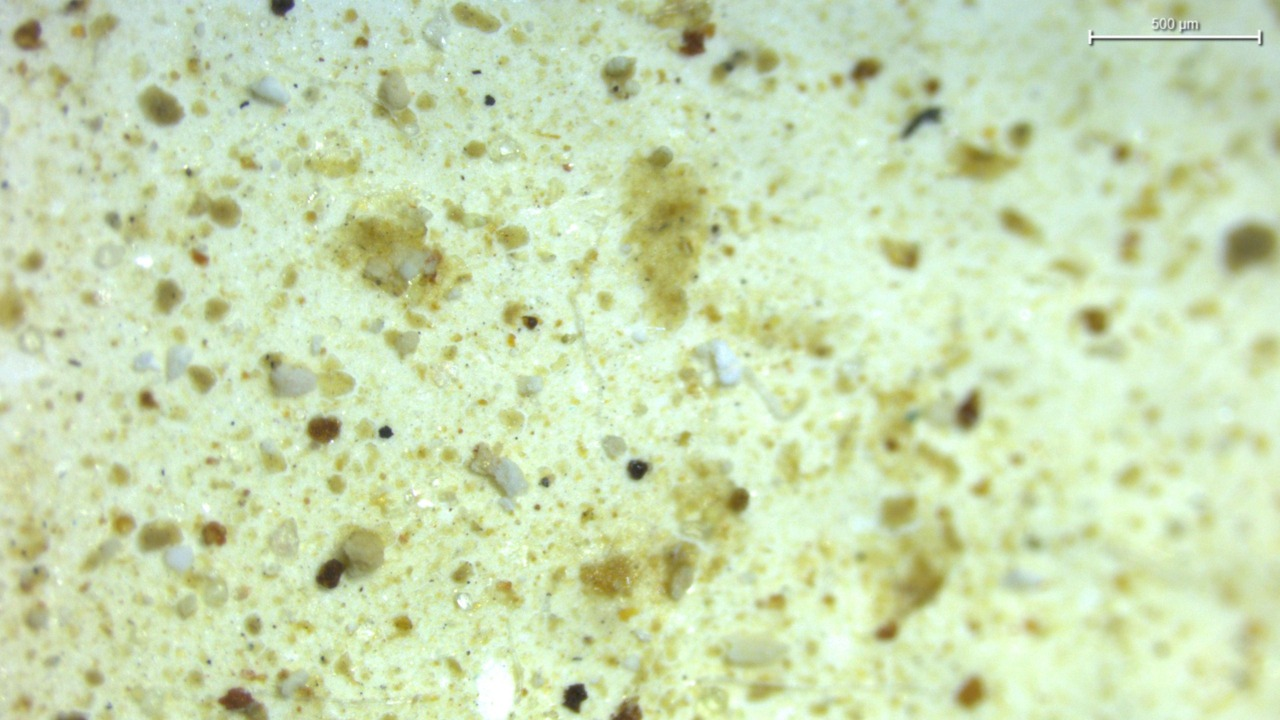microplastic_fragment: (470, 443, 526, 497), (709, 340, 743, 385), (271, 364, 316, 396), (249, 76, 291, 106)
